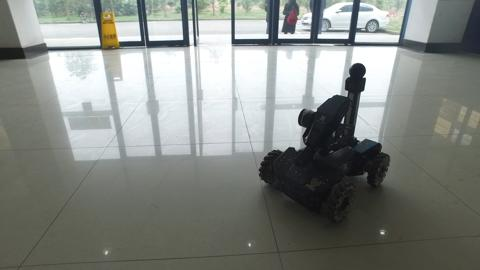chariot: (256, 61, 391, 225), (300, 1, 392, 32)
